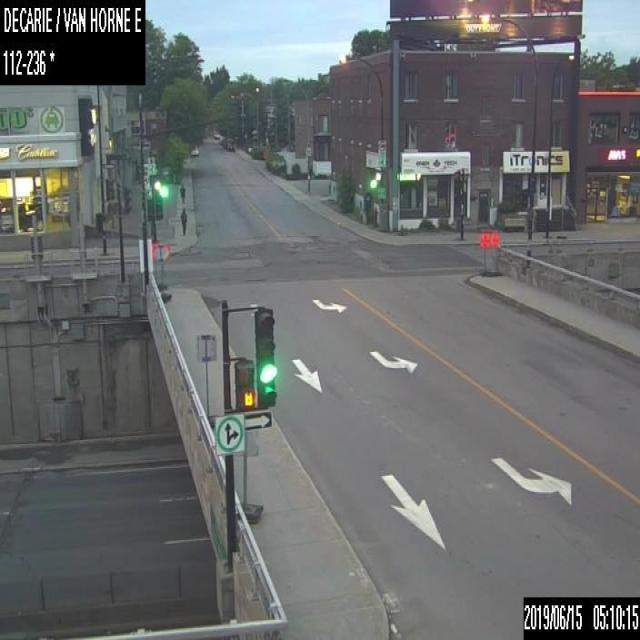construction: (196, 332, 222, 429), (237, 427, 262, 524), (155, 242, 171, 302), (489, 232, 501, 276), (479, 232, 489, 276)
pedestrian: (180, 207, 186, 234), (179, 184, 185, 203)
vehicle: (223, 137, 234, 150), (189, 146, 198, 156)
